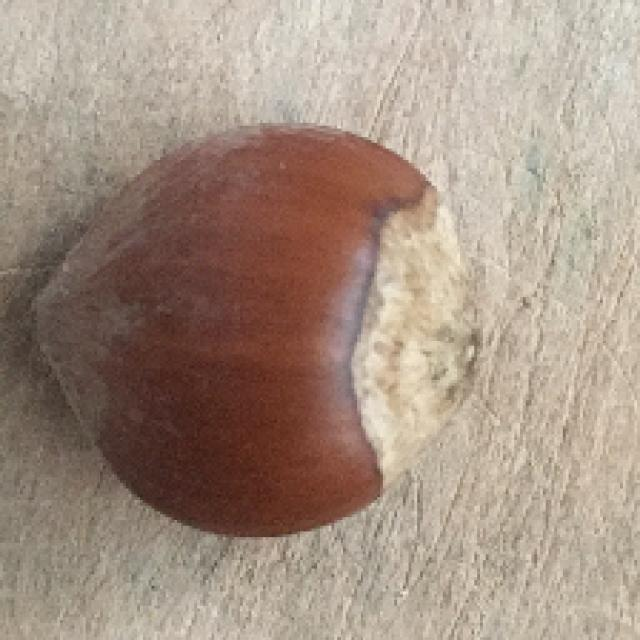qualityHazelnut: (30, 121, 489, 541)
